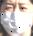with_mask: (2, 1, 33, 36)
